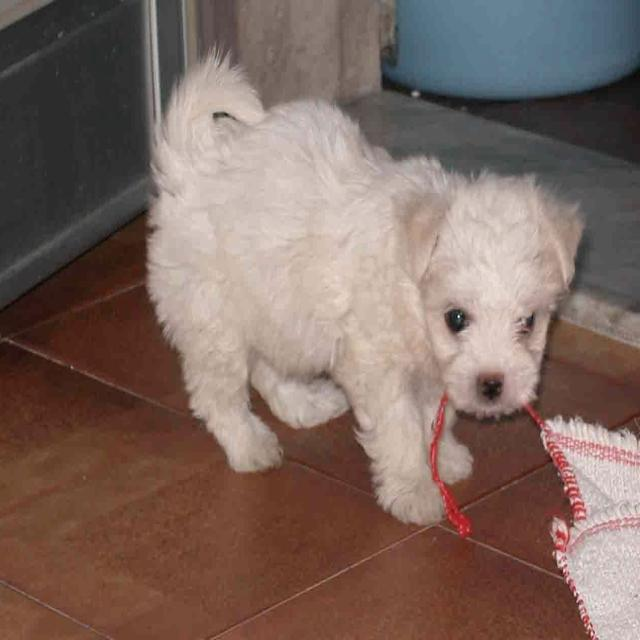maltese_dog: (148, 46, 584, 524)
